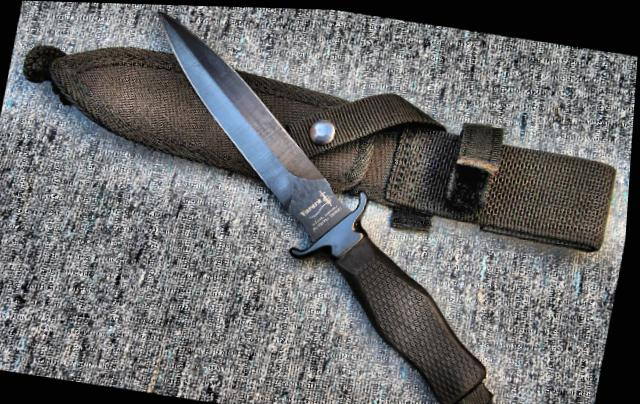knife: (118, 3, 365, 221)
